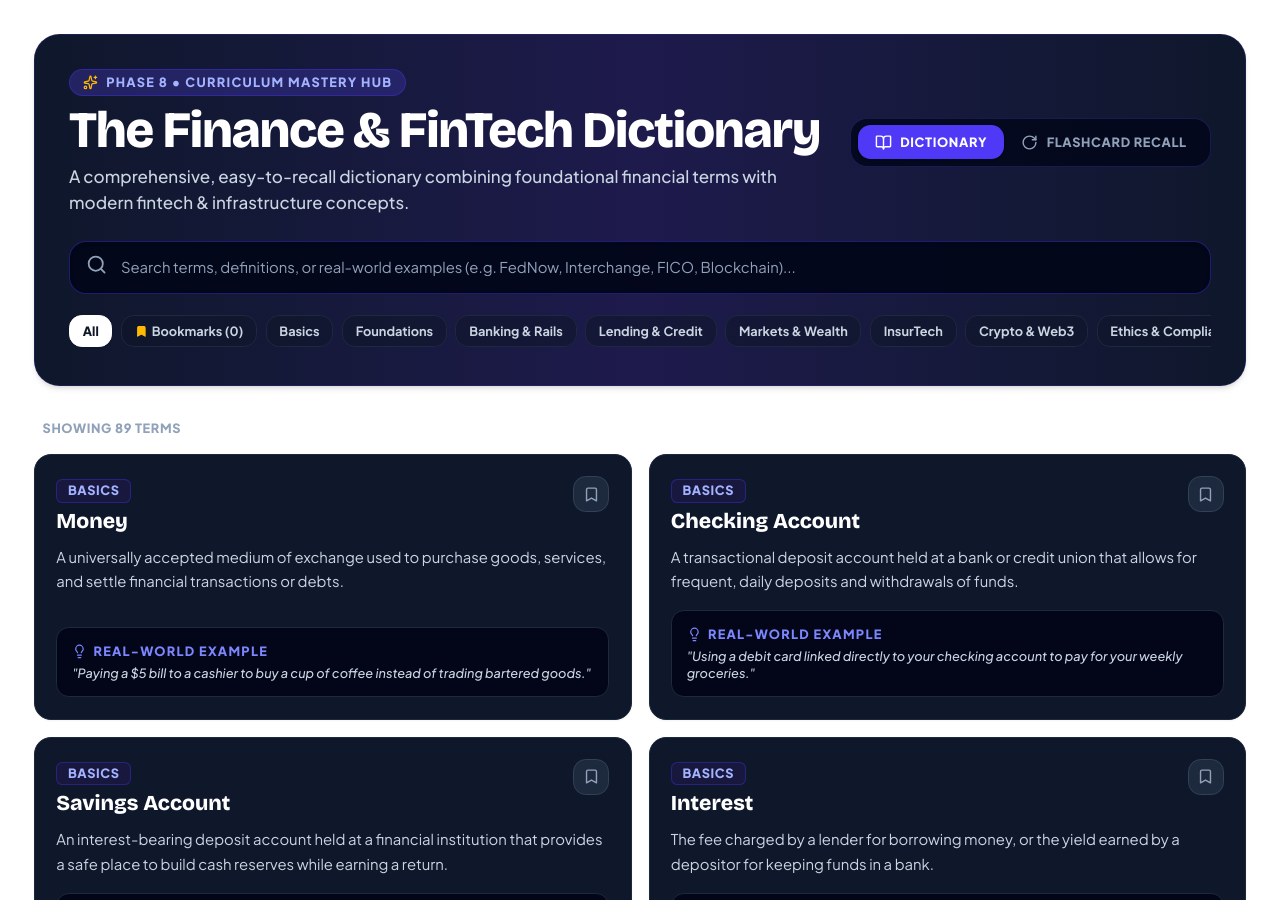
Test: FinanceGlossary › toggles bookmark off
Step 1. Click the 1st button titled "Save to Bookmarks" → x=591, y=494, box [573,476,609,512]
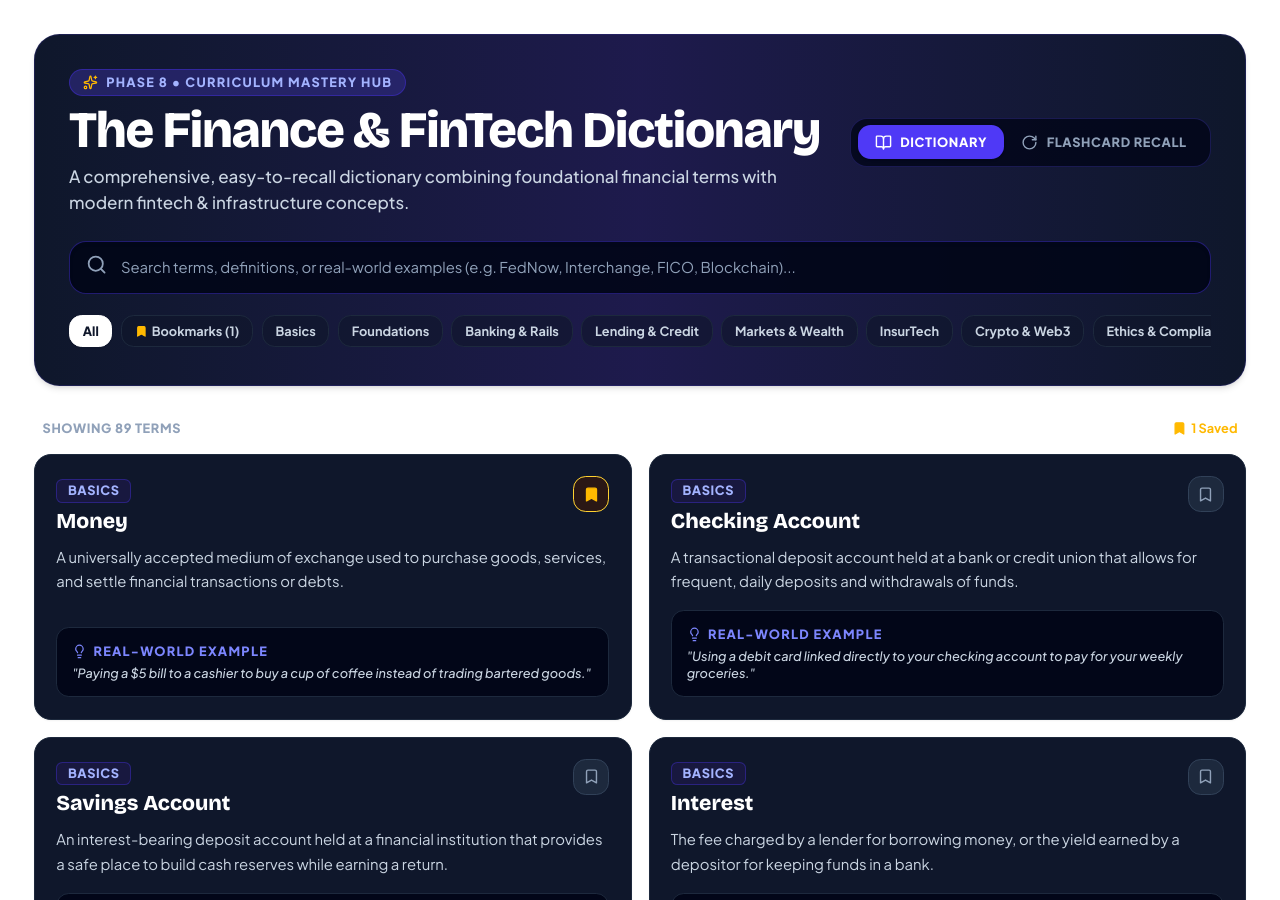
Expected: the text "Bookmarks (1)" is shown, [152,323,239,340]
Step 2. Click the button titled "Remove Bookmark" → x=591, y=494, box [573,476,609,512]
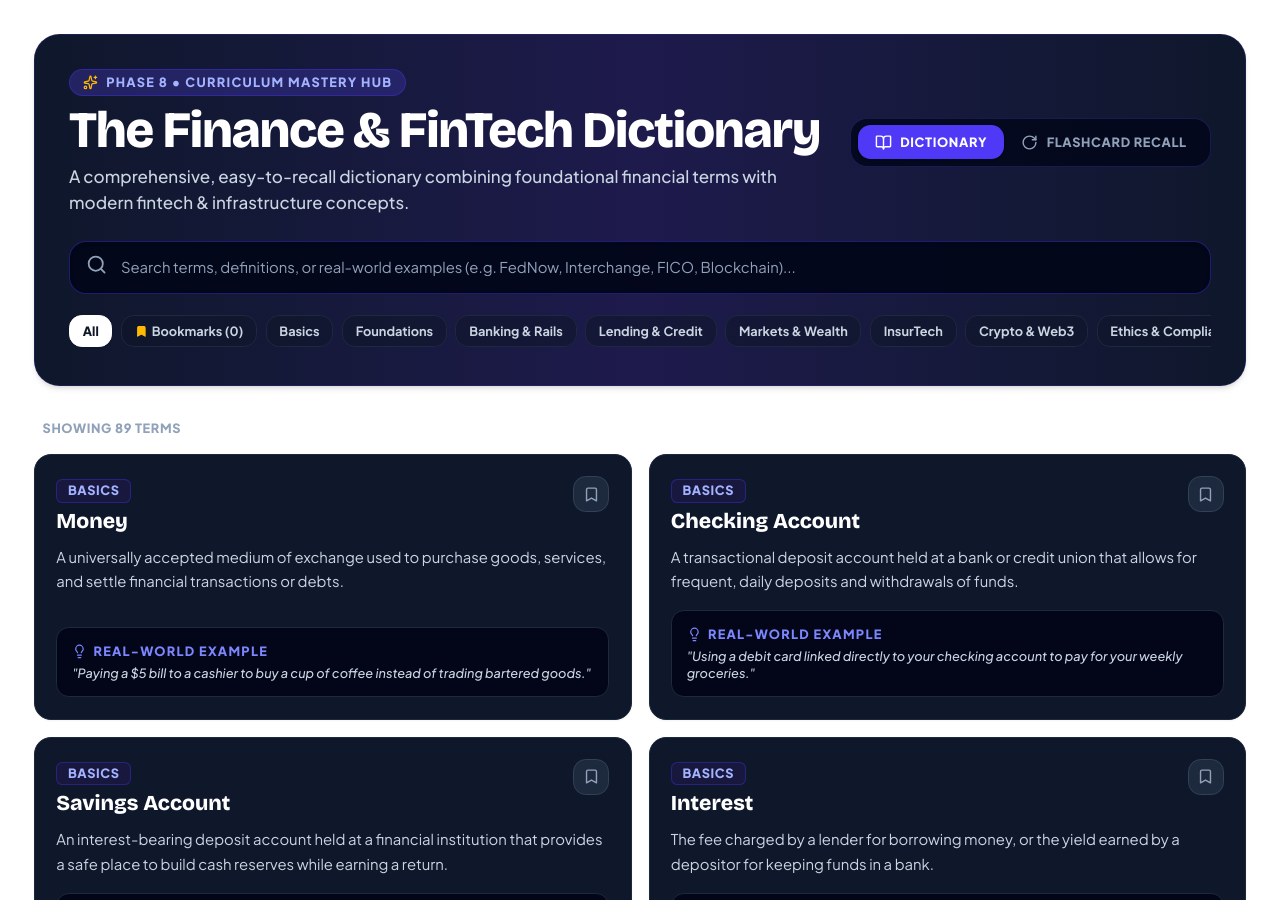
Expected: the text "Bookmarks (0)" is shown, [152,323,243,340]
